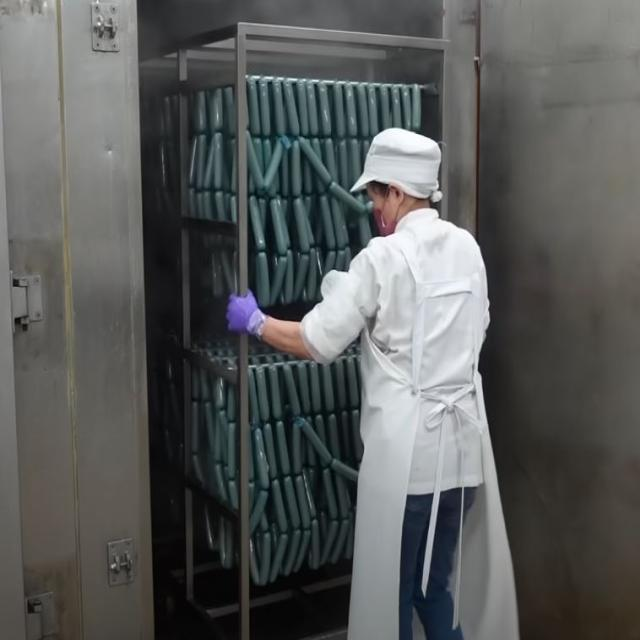gloved_hand: (222, 288, 267, 340)
